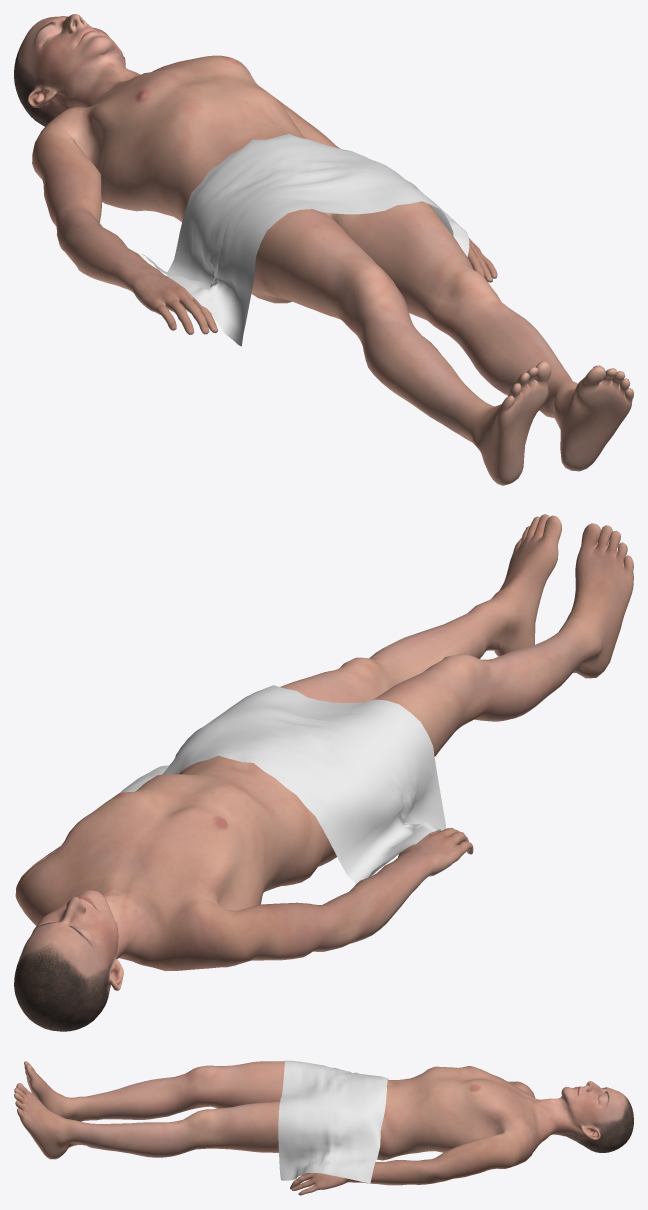
The model's file is patient model original.fbx.
3 views of the same model, one above another, from view 1: azimuth 30°, elevation 25°; view 2: azimuth 150°, elevation 25°; view 3: azimuth 270°, elevation 25° (orthographic). The views are drawn at different scales.
Parts seen in each view (by area): view 1: Body; view 2: Body; view 3: Body.
Part boxes in pixels (left/top/right/bottom): Body: left=14, top=14, right=633, bottom=485; Body: left=14, top=514, right=633, bottom=1031; Body: left=14, top=1060, right=633, bottom=1195.
Bounding box in the file's own units: 64.25 × 26.97 × 186.
